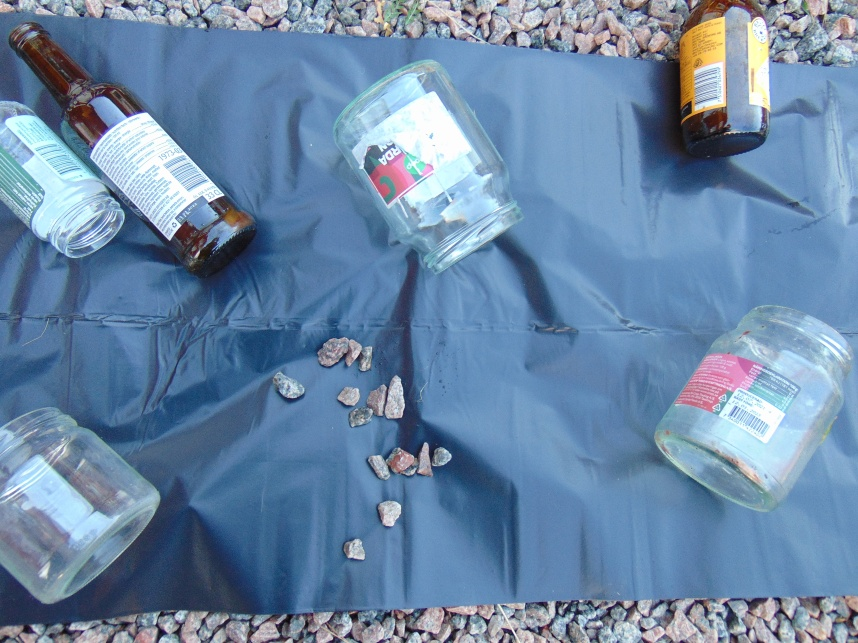glass_bottle: (8, 20, 256, 278), (652, 301, 854, 522), (330, 59, 525, 276), (1, 405, 160, 607), (1, 97, 125, 259), (676, 1, 771, 159)
